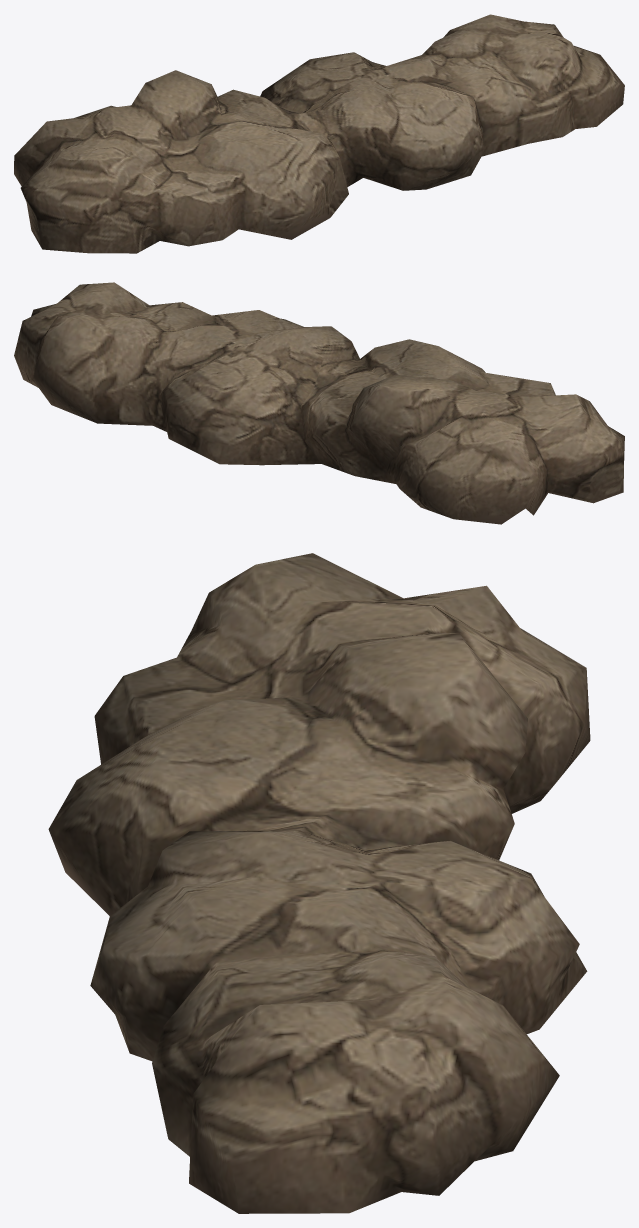
Rendered from environment_stone_dongkou_001_a.FBX.
3 renders of one model, top to bottom at view 1: azimuth 30°, elevation 25°; view 2: azimuth 150°, elevation 25°; view 3: azimuth 270°, elevation 25°, orthographic. The views are drawn at different scales.
Visible parts, largest first — view 1: environment_stone_dongkou_001_a; view 2: environment_stone_dongkou_001_a; view 3: environment_stone_dongkou_001_a.
Boxes of the visible parts, <box> form: environment_stone_dongkou_001_a: <box>14,14,624,253</box>; environment_stone_dongkou_001_a: <box>14,282,624,524</box>; environment_stone_dongkou_001_a: <box>48,553,590,1213</box>.
Bounding box in the file's own units: 671 × 109 × 273.
